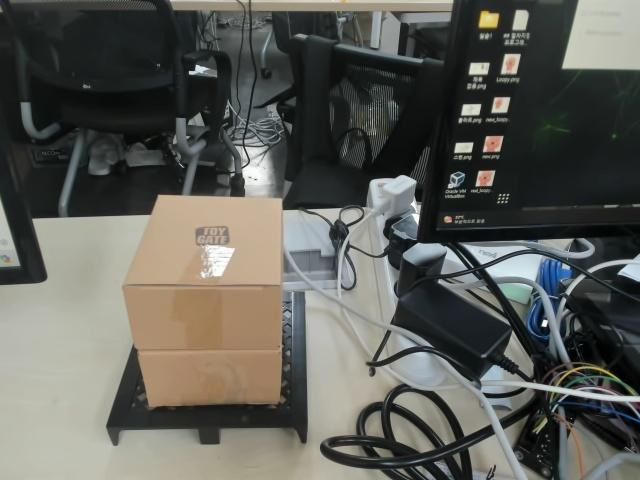box: (107, 193, 311, 445)
